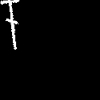double_crochet: (1, 0, 18, 48)
